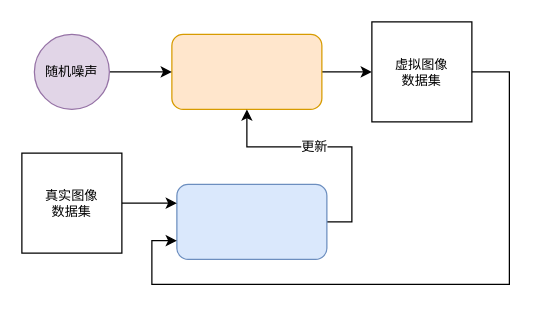
The diagram is 541 pixels wide and 316 high, and some of its shapes have lost their labels. Here are the shapes that lost their labels. From the top down, the centre of each, then its label:
At [246,71]: "生成器".
At [251,221]: "判别器".
